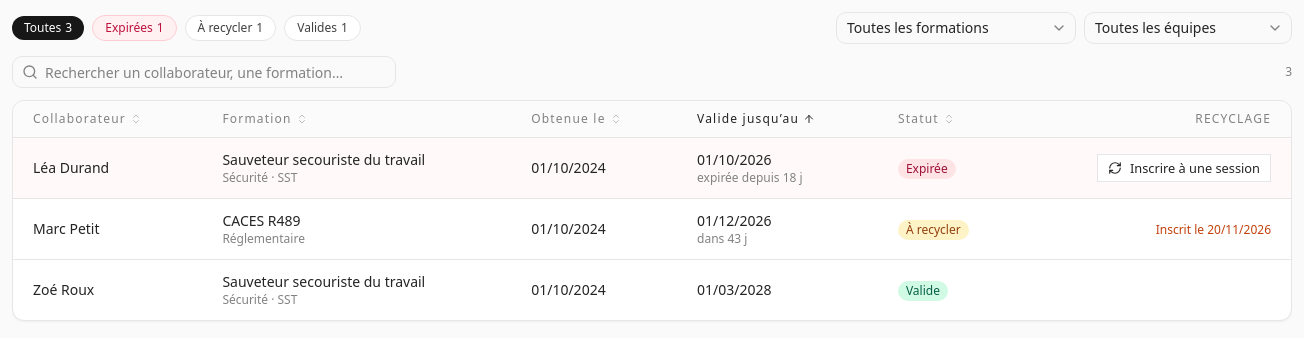
HabilitationsTable › filtre par statut
Click the button "Expirées 1": point(134, 28) x1=92 y1=15 x2=177 y2=41
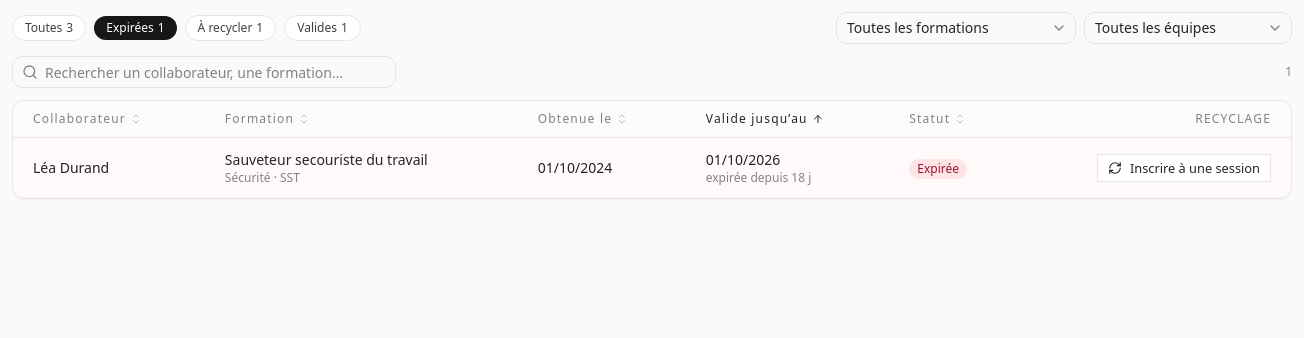
Expected: the text "Léa Durand" is shown, x1=33 y1=158 x2=109 y2=177
Expected: the text "Marc Petit" is gone
Expected: the text "Zoé Roux" is gone
